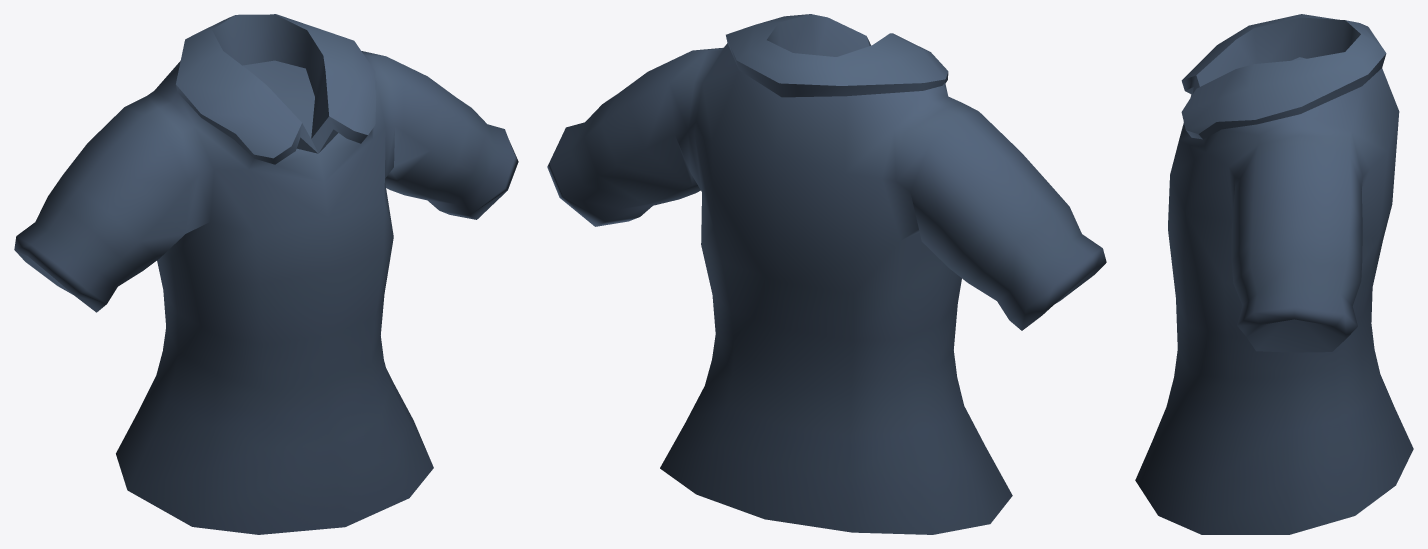
The model's file is Top_05_Slim.fbx.
The picture shows the model from 3 angles, left to right: view 1: azimuth 30°, elevation 25°; view 2: azimuth 150°, elevation 25°; view 3: azimuth 270°, elevation 25°; orthographic projection. The views are drawn at different scales.
Parts seen in each view (by area): view 1: Top_05_Slim; view 2: Top_05_Slim; view 3: Top_05_Slim.
Boxes of the visible parts, left/top/right/bottom form: Top_05_Slim: left=14, top=14, right=518, bottom=534; Top_05_Slim: left=547, top=14, right=1106, bottom=534; Top_05_Slim: left=1135, top=14, right=1413, bottom=534.
Size of the model in its own units: 71.06 by 61.04 by 34.54.
